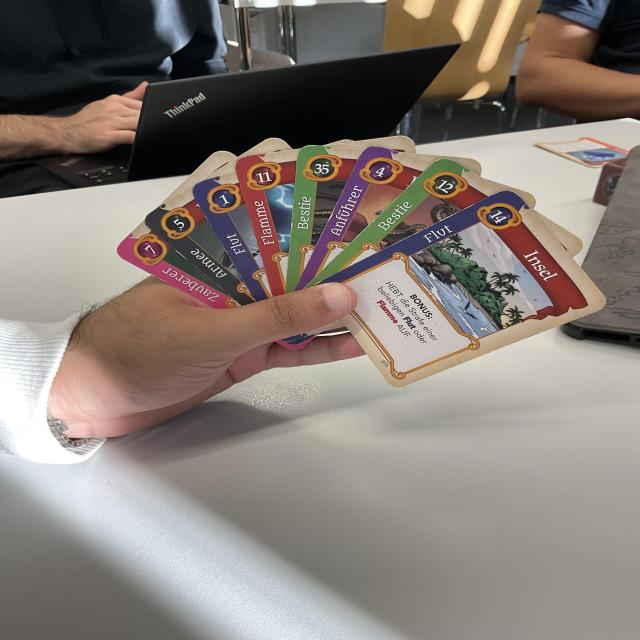Basilisk: (287, 145, 365, 290)
Collector: (111, 224, 241, 310)
Fountain Of Life: (188, 170, 275, 301)
Hydra: (305, 155, 505, 287)
Island: (313, 188, 612, 391)
Lightning: (234, 149, 299, 297)
Rangers: (140, 189, 256, 307)
Warlord: (294, 143, 433, 290)
